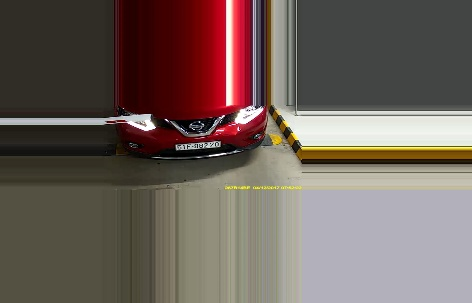plate: (175, 139, 221, 151)
